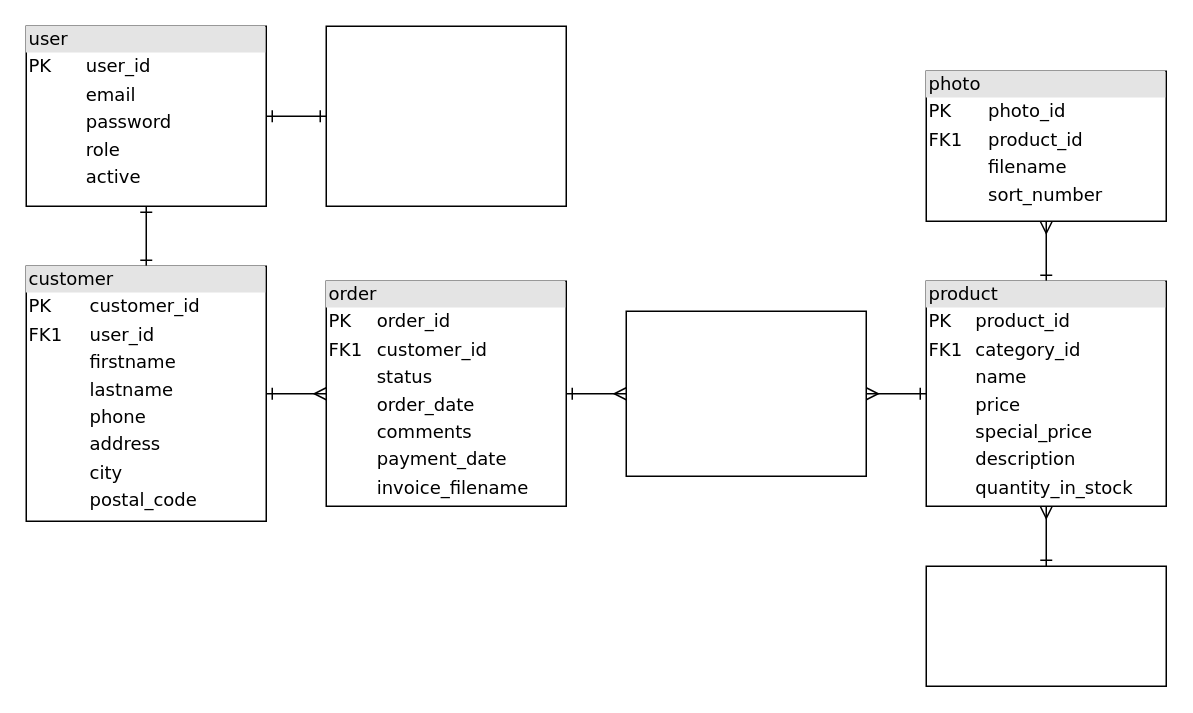
Some shapes in this 1193 by 713 pixel diagram are drawn without their labels. Here are the shapes that lost their labels. From the top down, the box of each, then its label:
(325, 25, 566, 206): employee PK employee_id FK1 user_id firstname lastname job_title
(625, 310, 866, 476): order_product PK order_product_id FK1 order_id FK2 product_id quantity price
(925, 565, 1166, 686): category PK category_id name icon
